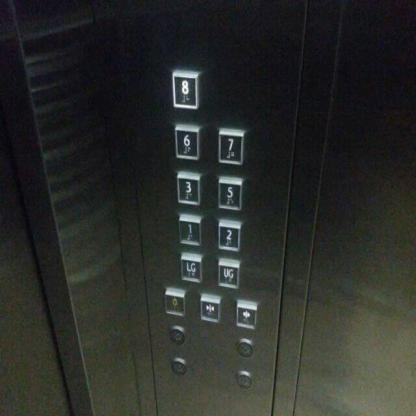1: (177, 212, 203, 247)
2: (216, 218, 242, 253)
3: (175, 168, 202, 206)
5: (216, 172, 244, 212)
6: (174, 122, 204, 160)
7: (216, 126, 246, 166)
8: (171, 68, 203, 109)
LG: (180, 250, 204, 284)
UG: (216, 256, 240, 290)
alarm: (163, 285, 187, 316)
close: (198, 292, 223, 322)
keyhole: (234, 334, 254, 359), (168, 322, 186, 347), (233, 368, 253, 389), (170, 355, 189, 376)
open: (235, 297, 258, 330)
